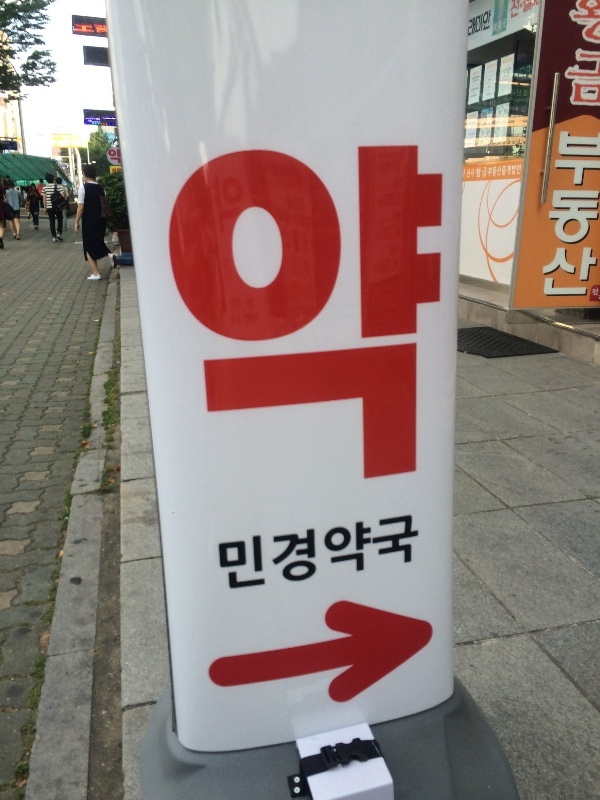text: (177, 146, 192, 486), (193, 146, 208, 486), (209, 146, 224, 486), (225, 146, 240, 486), (241, 146, 256, 486), (257, 146, 272, 486), (273, 146, 288, 486), (289, 146, 304, 486), (305, 146, 320, 486), (321, 146, 336, 486), (337, 146, 352, 486), (353, 146, 368, 486), (369, 146, 384, 486), (385, 146, 400, 486), (401, 146, 416, 486), (417, 146, 432, 486), (433, 146, 445, 486), (561, 132, 576, 296), (577, 132, 592, 296), (577, 1, 592, 104), (225, 513, 240, 592), (241, 513, 256, 592), (257, 513, 272, 592), (273, 513, 288, 592), (289, 513, 304, 592), (305, 513, 320, 592), (321, 513, 336, 592), (337, 513, 352, 592), (353, 513, 368, 592), (369, 513, 384, 592), (385, 513, 400, 592), (401, 513, 416, 592), (593, 132, 600, 296), (173, 146, 176, 486), (593, 1, 600, 104), (570, 1, 576, 104), (217, 513, 224, 592), (469, 10, 480, 38), (513, 1, 528, 20), (481, 10, 491, 38), (481, 165, 496, 179), (497, 165, 512, 179), (529, 1, 540, 20), (559, 132, 560, 296), (497, 18, 507, 34), (417, 513, 419, 592), (81, 24, 96, 34), (513, 89, 528, 97), (113, 149, 121, 164), (481, 120, 496, 128), (497, 120, 512, 128), (467, 169, 480, 178), (513, 165, 521, 179), (466, 120, 480, 128), (465, 139, 480, 146), (481, 139, 496, 146), (497, 139, 512, 146), (97, 24, 107, 34), (1, 141, 16, 147), (484, 100, 496, 107), (85, 117, 96, 124), (107, 149, 112, 164), (520, 64, 528, 73), (503, 57, 512, 65), (501, 78, 512, 84), (515, 97, 528, 102), (513, 106, 521, 114), (113, 168, 122, 175), (593, 288, 600, 296), (476, 165, 480, 179), (487, 64, 496, 70), (3, 150, 16, 154), (75, 24, 80, 34), (513, 139, 520, 146), (521, 106, 528, 113), (504, 97, 512, 102), (472, 75, 480, 80), (502, 68, 512, 72), (7, 146, 16, 150), (472, 80, 480, 84), (504, 71, 512, 75), (494, 18, 496, 34), (486, 93, 496, 96), (473, 71, 480, 75), (471, 95, 480, 98), (503, 75, 512, 78), (472, 88, 480, 91), (488, 78, 496, 81), (488, 86, 496, 89), (513, 120, 516, 128), (97, 117, 100, 124), (529, 64, 531, 73), (510, 106, 512, 114), (14, 143, 16, 149), (463, 169, 464, 179), (465, 169, 466, 179), (479, 97, 480, 106), (481, 97, 482, 106)
